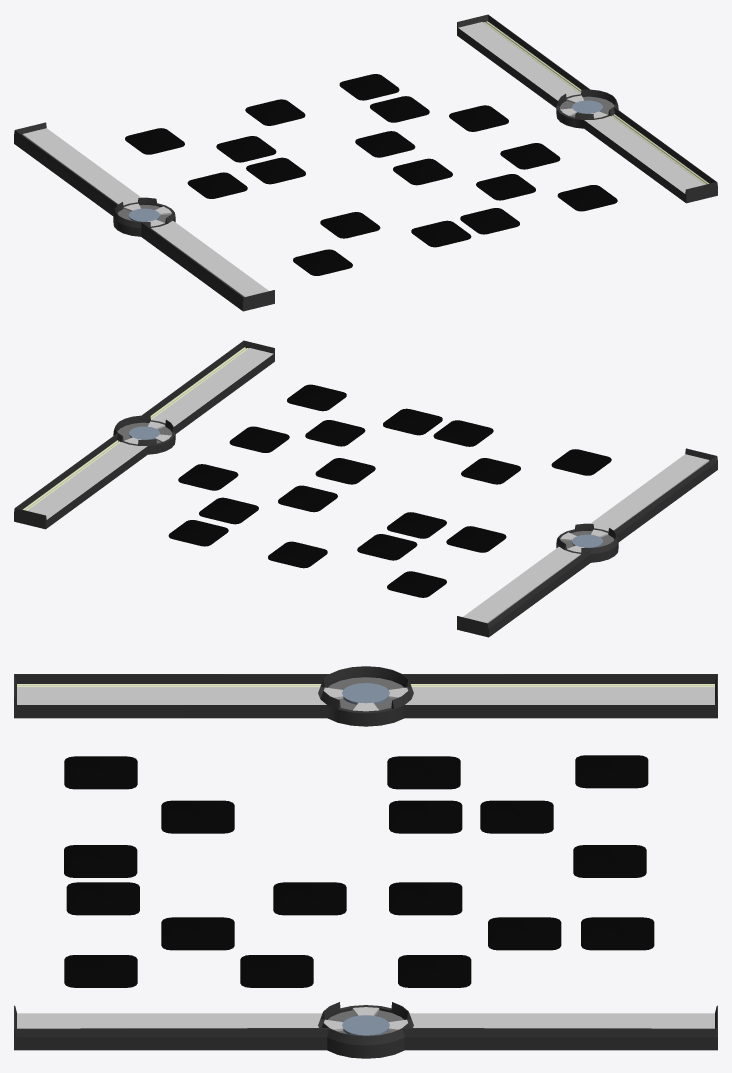
Rendered from mixed_panel.fbx.
3 views of the same model, one above another, from view 1: azimuth 30°, elevation 25°; view 2: azimuth 150°, elevation 25°; view 3: azimuth 270°, elevation 25° (orthographic). The views are drawn at different scales.
Parts seen in each view (by area): view 1: Bottom_panel18; view 2: Bottom_panel18; view 3: Bottom_panel18.
Boxes of the visible parts, bbox=[...] form: Bottom_panel18: bbox=[14, 14, 717, 311]; Bottom_panel18: bbox=[14, 340, 717, 637]; Bottom_panel18: bbox=[14, 666, 717, 1058].
Bounding box in the file's own units: 18.39 × 0.4876 × 14.68.
